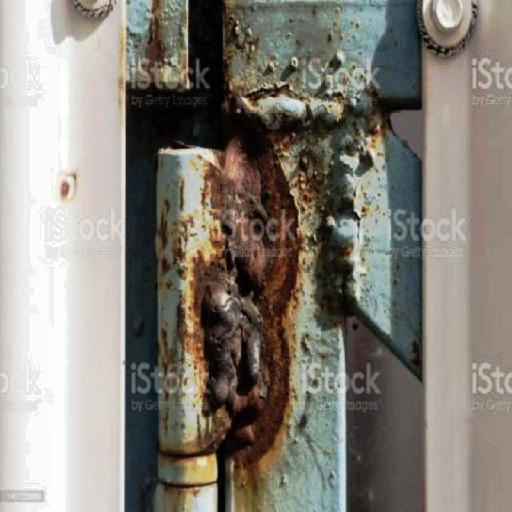corrosion: (206, 116, 295, 438)
